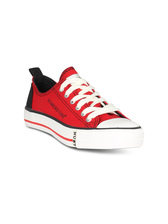shoes: (19, 62, 150, 152)
